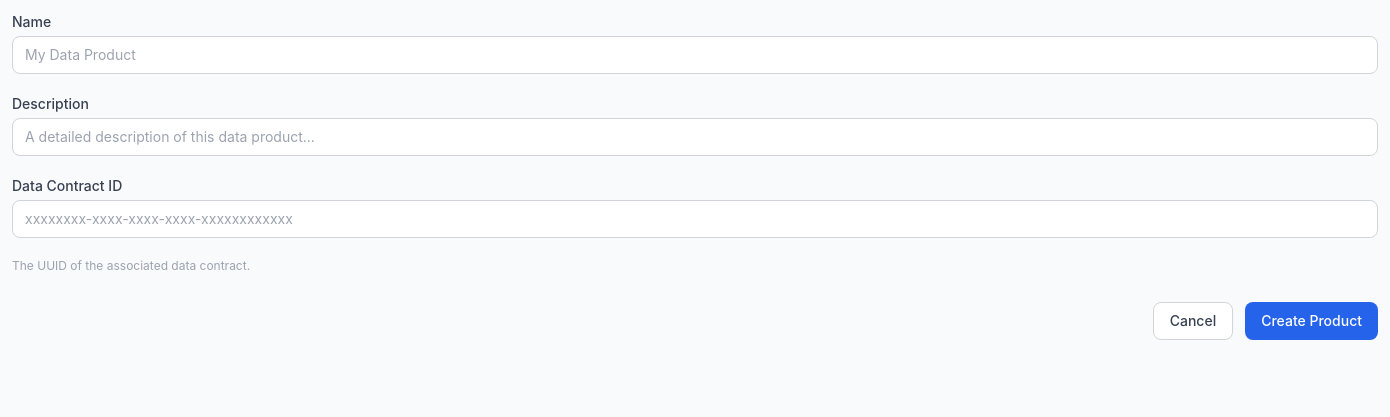
Test case: DataProductForm › shows validation errors and does not submit invalid data
Click the button "Create Product".
click(1312, 321)  # box [1245,302,1378,340]
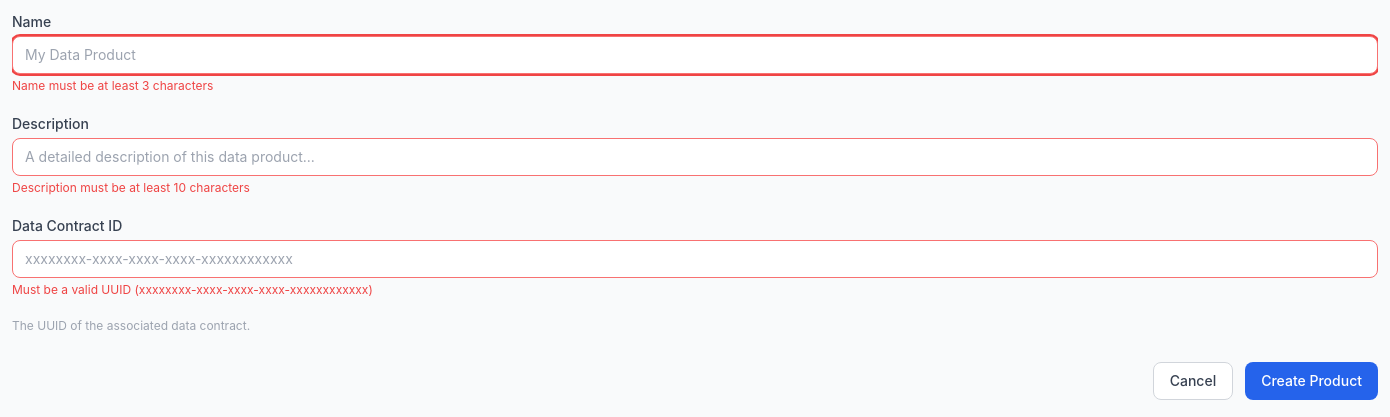
Check: the text "Name must be at least 3 characters" is shown, box [12,78,213,93]
